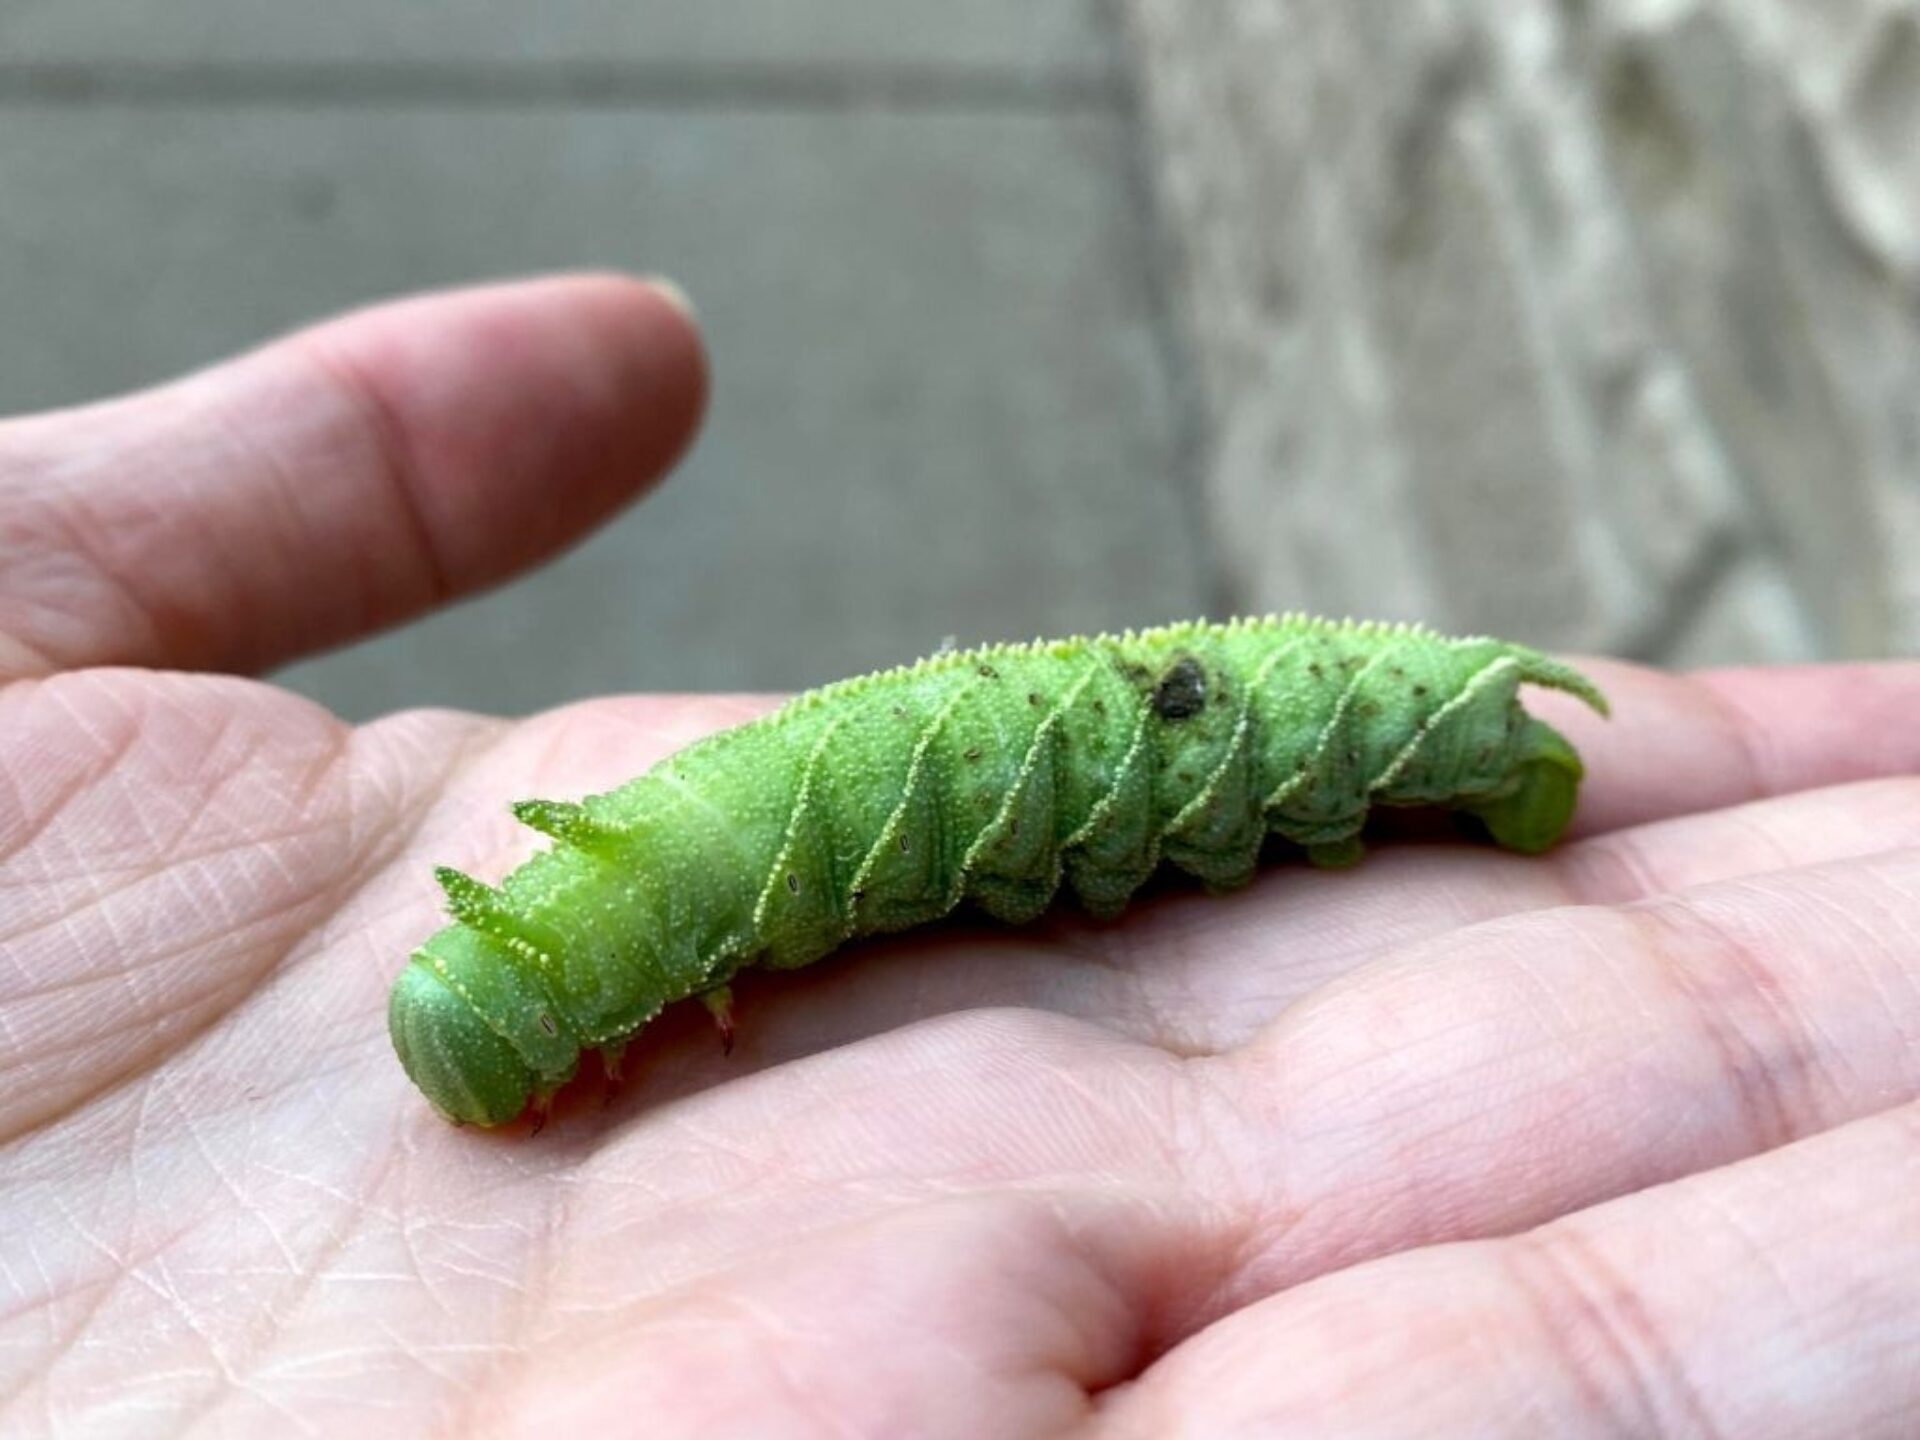Caterpillar: (389, 608, 1609, 1144)
